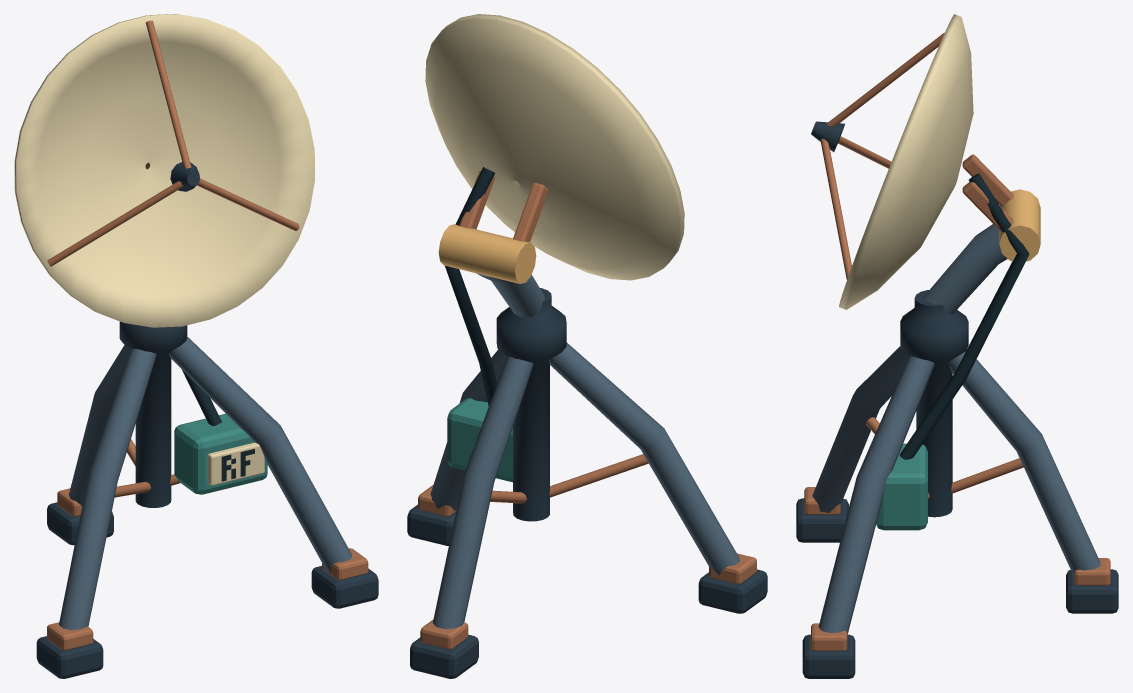
3 renders of one model, left to right at view 1: azimuth 30°, elevation 25°; view 2: azimuth 150°, elevation 25°; view 3: azimuth 270°, elevation 25°, orthographic. The views are drawn at different scales.
Parts seen in each view (by area): view 1: PR104 enamel and hardware; view 2: PR104 enamel and hardware; view 3: PR104 enamel and hardware.
Boxes of the visible parts, <box> form: PR104 enamel and hardware: <box>14,14,378,678</box>; PR104 enamel and hardware: <box>407,14,767,678</box>; PR104 enamel and hardware: <box>796,14,1118,678</box>.
Bounding box in the file's own units: 1.16 × 1.96 × 1.
